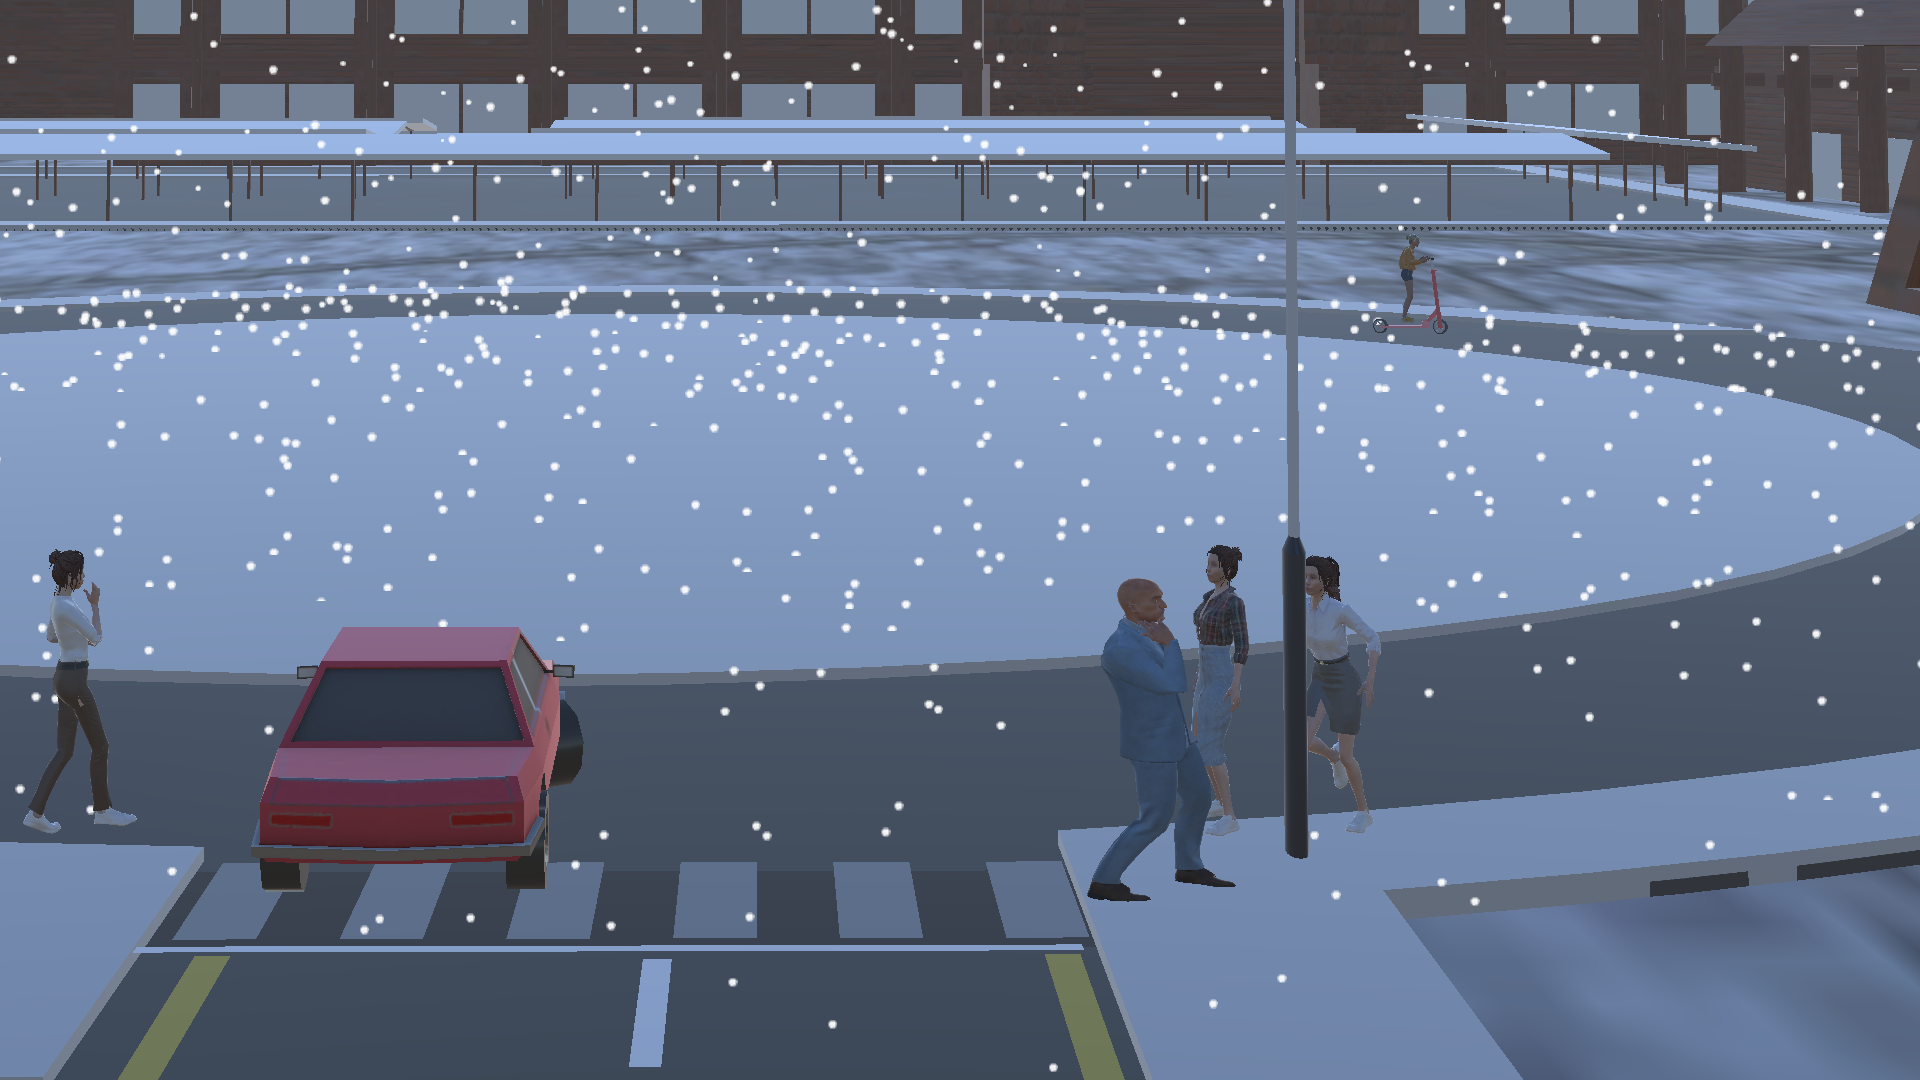pedestrian: (1088, 569, 1238, 906), (14, 540, 157, 853), (1303, 548, 1384, 829), (1196, 540, 1260, 830)
